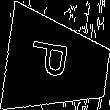P_E: (33, 42, 81, 87)
